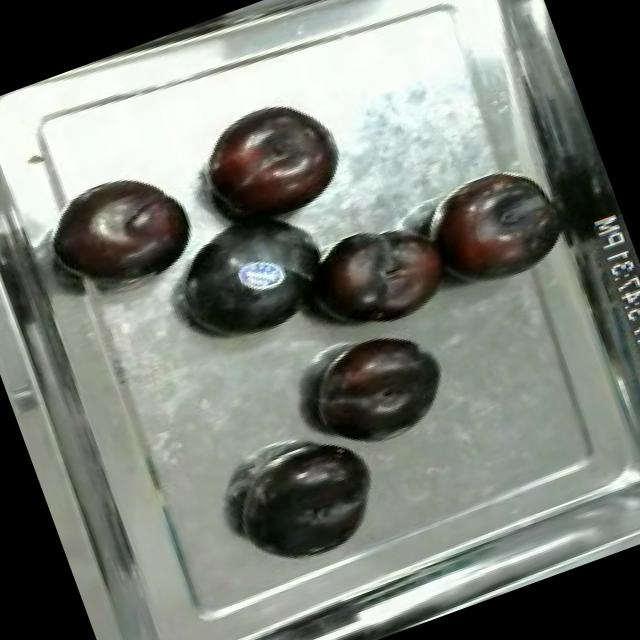Fruit: (157, 190, 347, 362), (184, 86, 356, 245), (218, 426, 392, 580), (35, 156, 208, 310), (408, 152, 574, 306), (290, 314, 460, 464), (296, 207, 466, 348)
